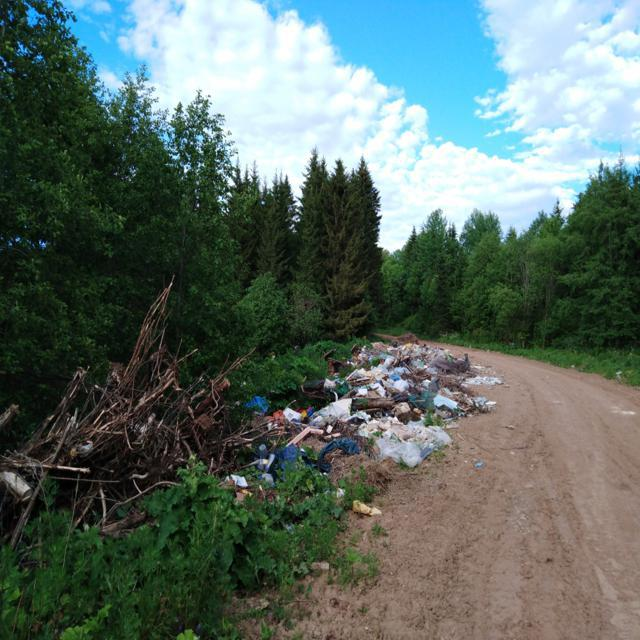lixeira: (224, 339, 472, 507)
